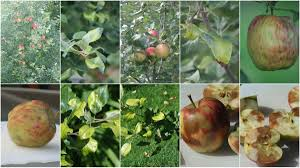damaged_apple: (237, 103, 291, 163), (180, 98, 233, 156), (249, 13, 297, 73), (7, 103, 56, 156)
